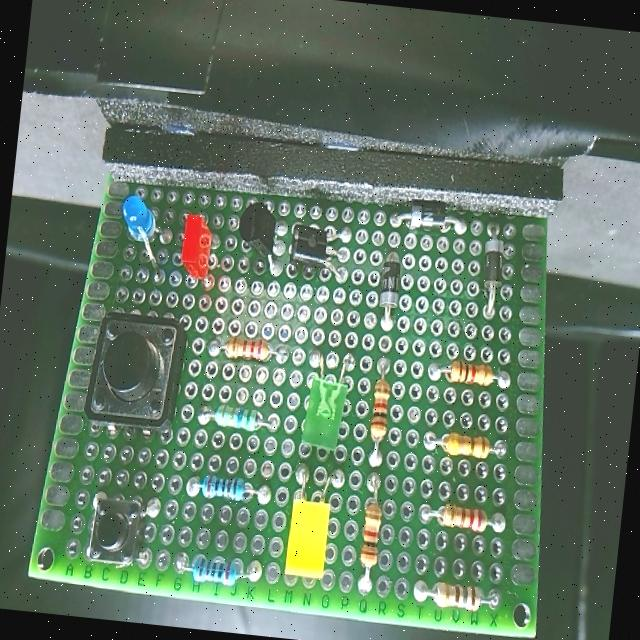diode: (366, 240, 414, 332), (470, 220, 516, 311), (383, 196, 465, 234)
led: (296, 357, 355, 462), (277, 485, 338, 585), (166, 206, 232, 287), (116, 183, 162, 260)
resistor: (170, 542, 267, 606), (349, 489, 395, 603), (410, 570, 503, 618), (362, 356, 398, 470), (194, 390, 279, 437), (182, 466, 266, 511), (428, 492, 501, 542), (430, 352, 510, 396), (428, 424, 500, 464), (212, 327, 276, 368)
switch: (77, 296, 188, 446), (80, 490, 154, 580)
transistor: (288, 217, 358, 286), (230, 194, 290, 267)
